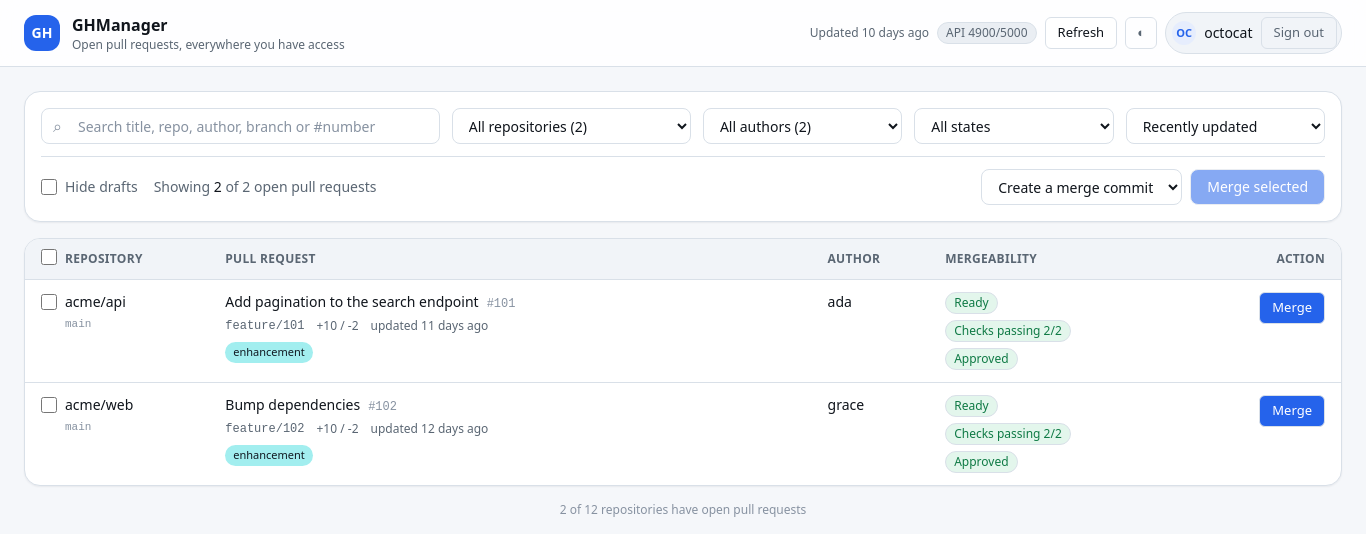
Test: Dashboard bulk merge › only selects rows that survive the current filter
Expected: the table is shown, [25, 239, 1341, 485]
Select "acme/api" in the 1st dropdown named "Repository" at [571, 126], box [452, 108, 691, 144]
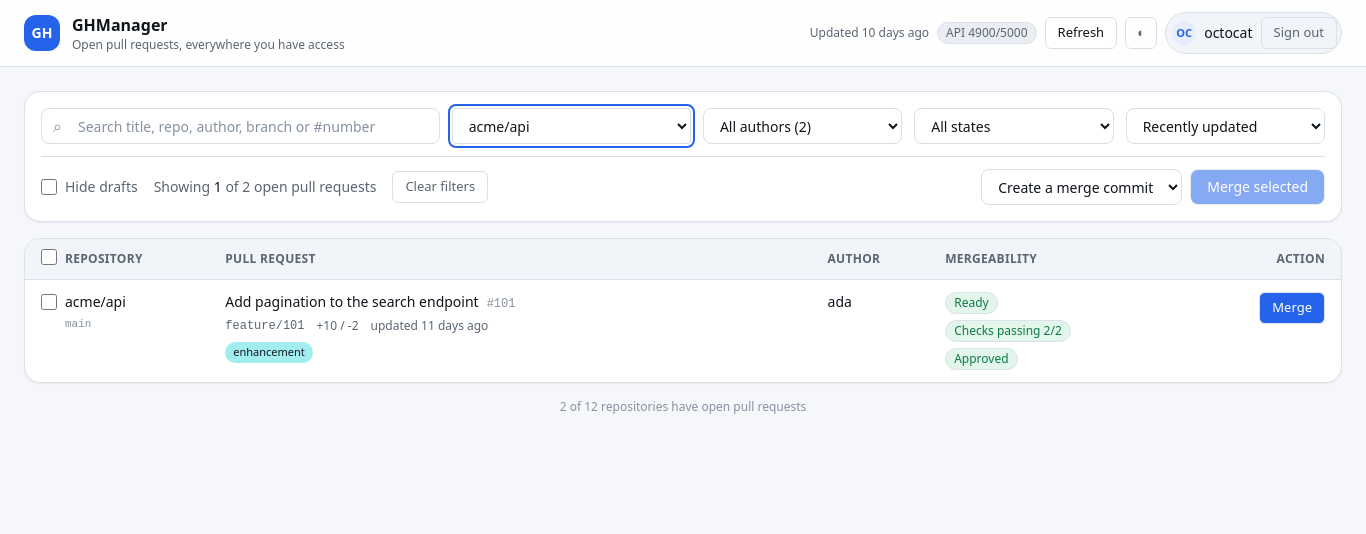
Click the checkbox named "Select all 1 mergeable pull requests in view" at [49, 257], box [41, 249, 57, 265]
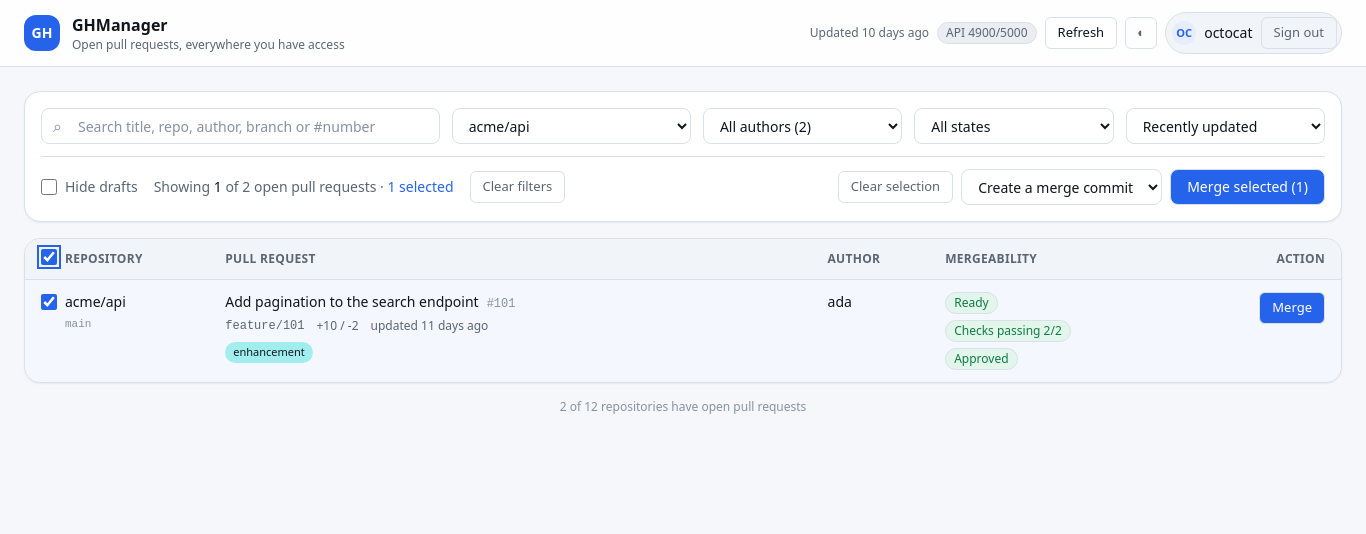
Now the text "1 selected" is shown, box [388, 177, 454, 196]
